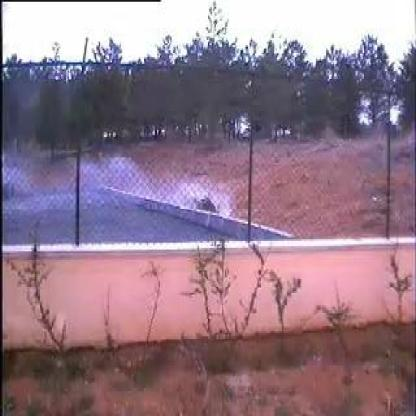-: (51, 158, 238, 244)
